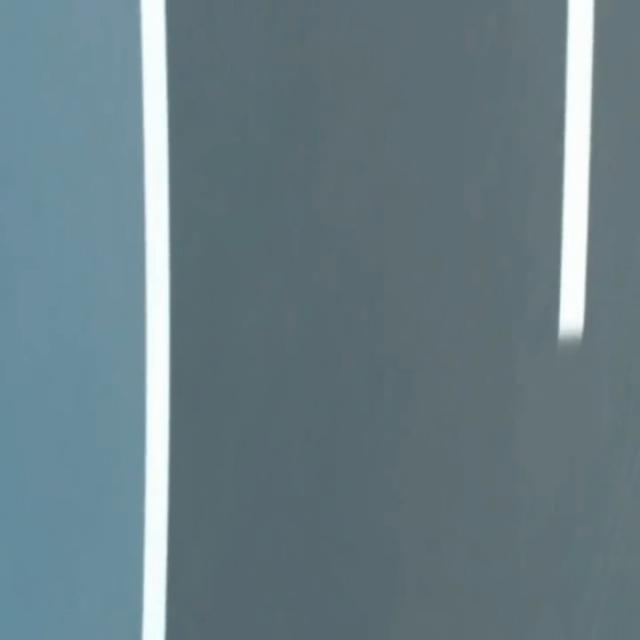center: (557, 0, 594, 343)
left: (140, 0, 170, 639)
